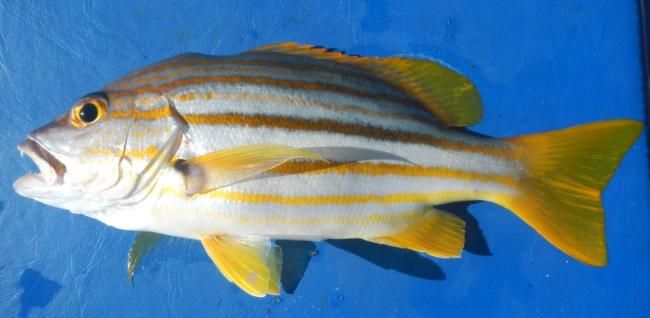fish: (12, 41, 644, 298)
